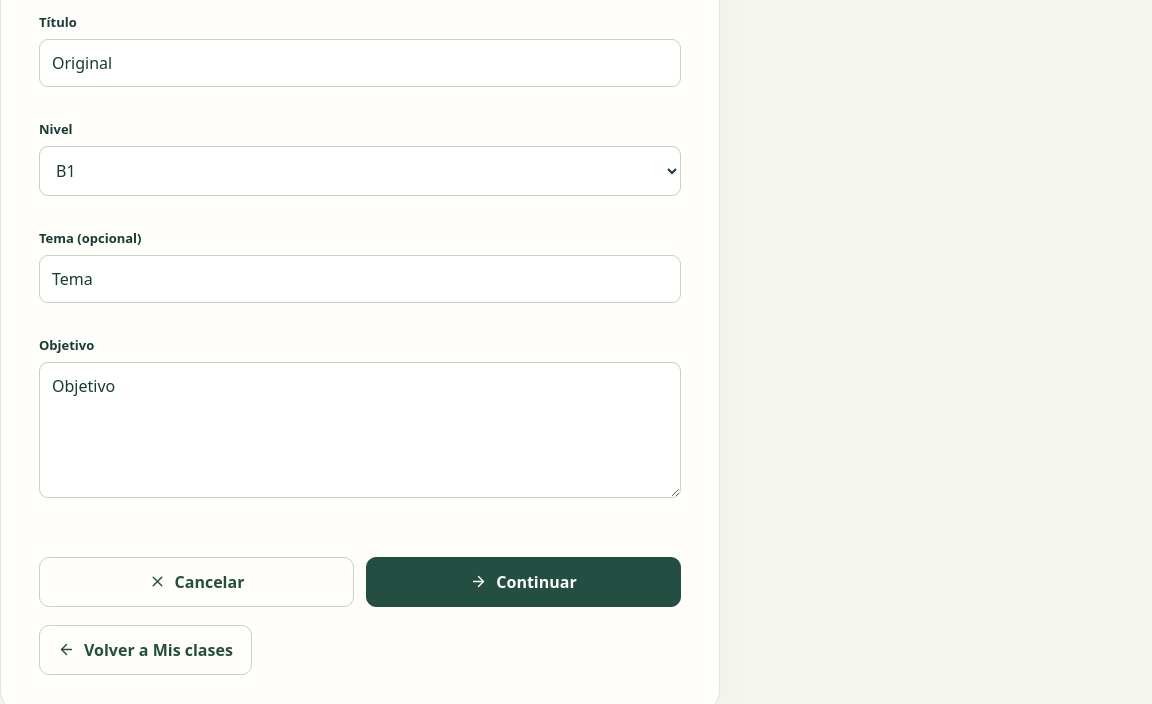
Test case: keeps the student assignment out of the first two steps and inside the form on the third
(page scrolled)
expect the field labelled "Título" is shown: met, box [39,39,681,87]
Click the button "Continuar" at (524, 582), box [366,557,681,607]
(page scrolled)
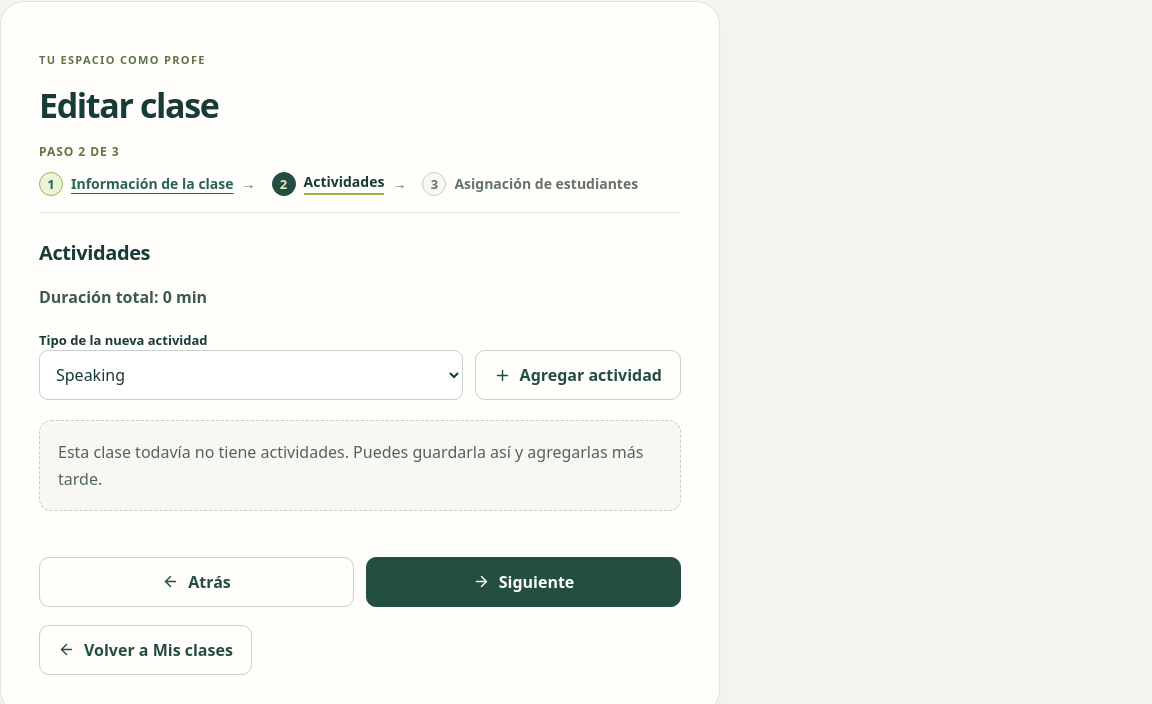
Click the button "Siguiente" at (524, 582), box [366,557,681,607]
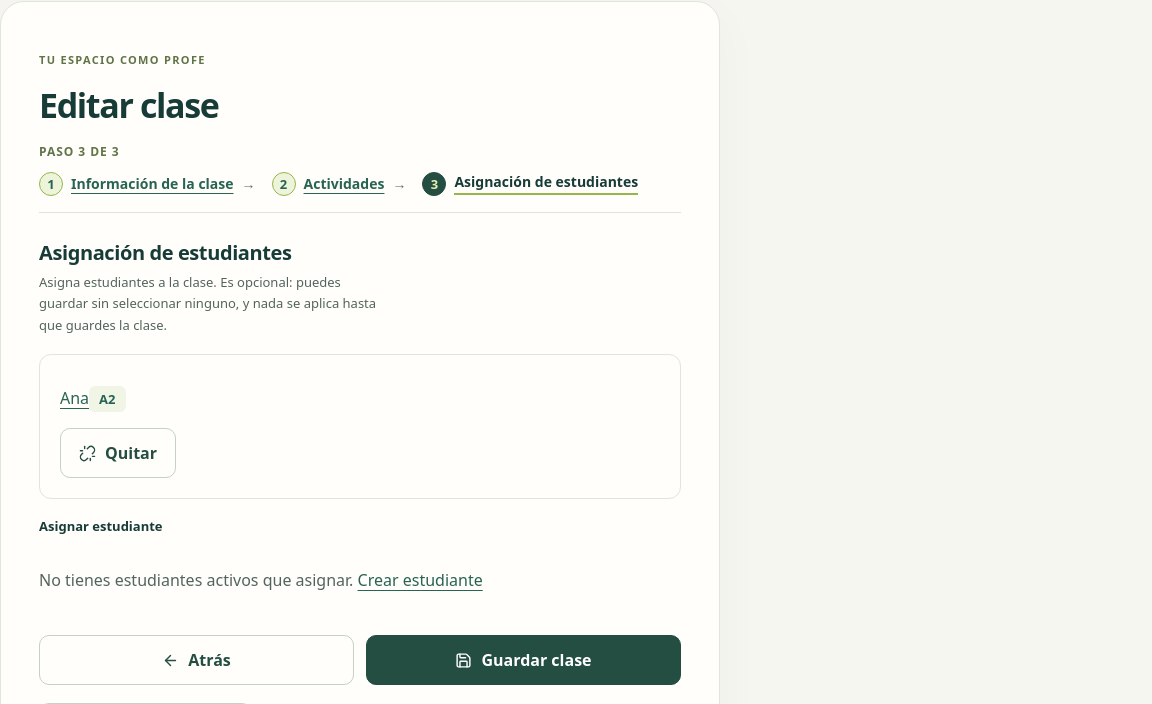
expect the form is shown: met, box [39,239,681,685]
expect the link "Ana" is shown: met, box [60,387,89,409]
